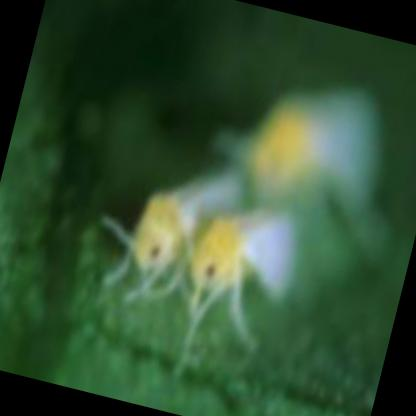whitefly: (135, 173, 242, 273), (192, 208, 294, 295)
